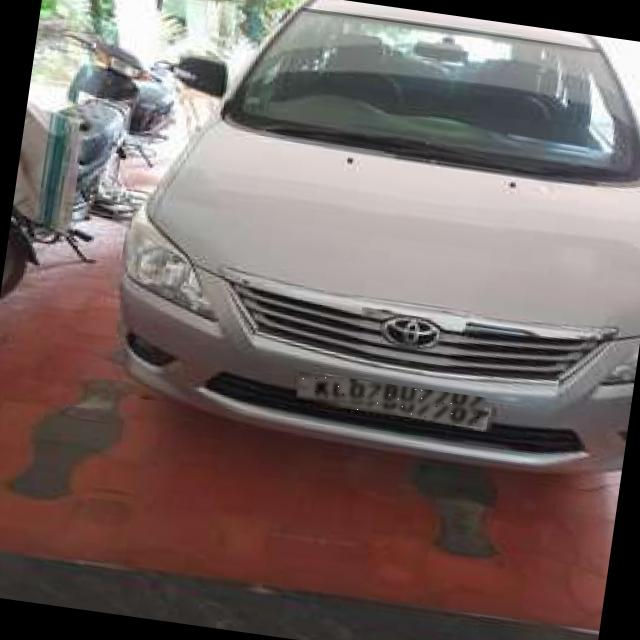Plate: (297, 373, 489, 429)
